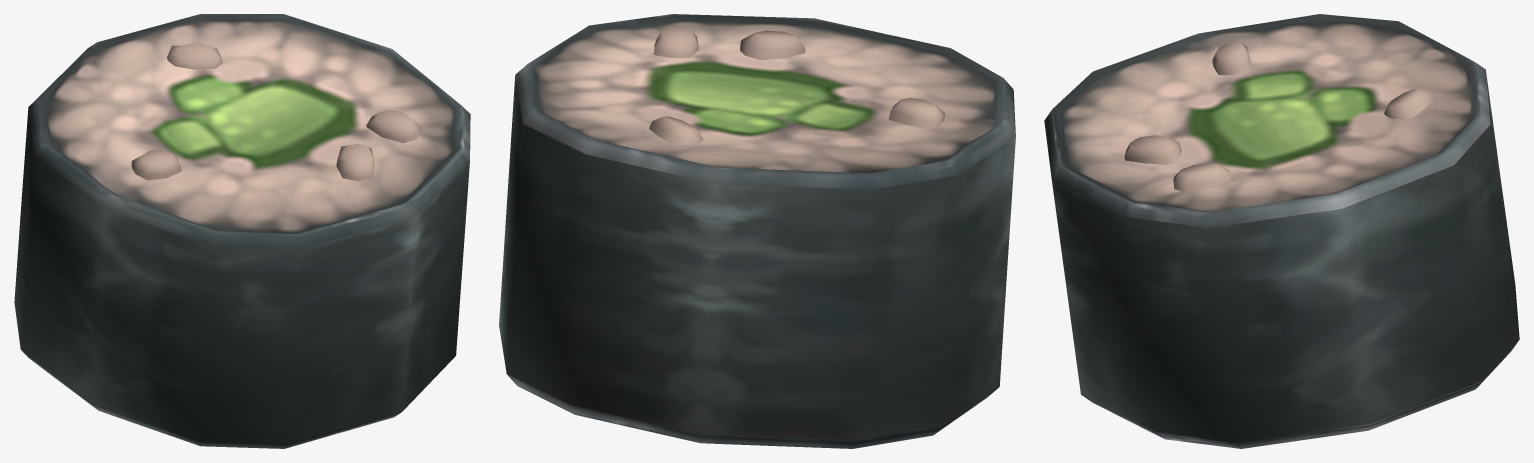
The model's file is Maki_01_Free.fbx.
The picture shows the model from 3 angles, left to right: view 1: azimuth 30°, elevation 25°; view 2: azimuth 150°, elevation 25°; view 3: azimuth 270°, elevation 25°; orthographic projection. The views are drawn at different scales.
Parts seen in each view (by area): view 1: Maki_01_Free; view 2: Maki_01_Free; view 3: Maki_01_Free.
Boxes of the visible parts, bbox=[...] form: Maki_01_Free: bbox=[14, 14, 470, 448]; Maki_01_Free: bbox=[499, 14, 1015, 448]; Maki_01_Free: bbox=[1044, 14, 1519, 448].
Size of the model in its own units: 7.93 by 5.45 by 8.19.
